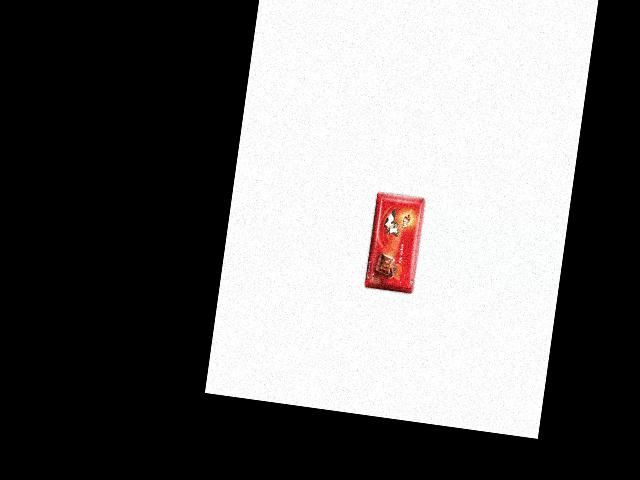chocolate: (360, 186, 426, 295)
